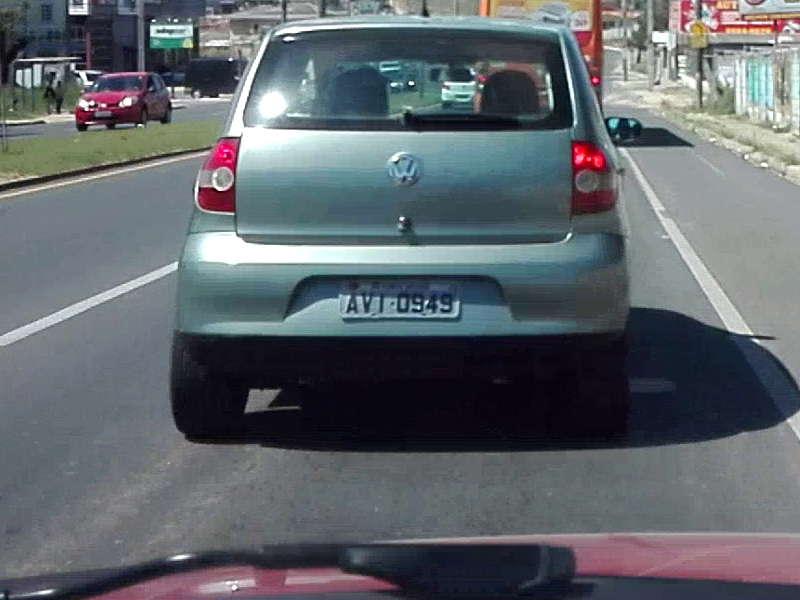placa: (338, 281, 462, 319)
